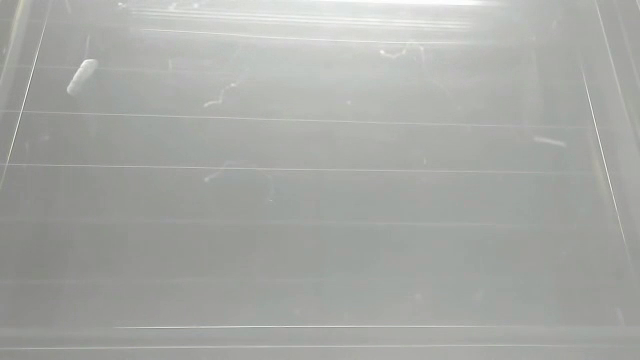alpha: (64, 57, 107, 97), (530, 133, 567, 152), (612, 302, 631, 336)
